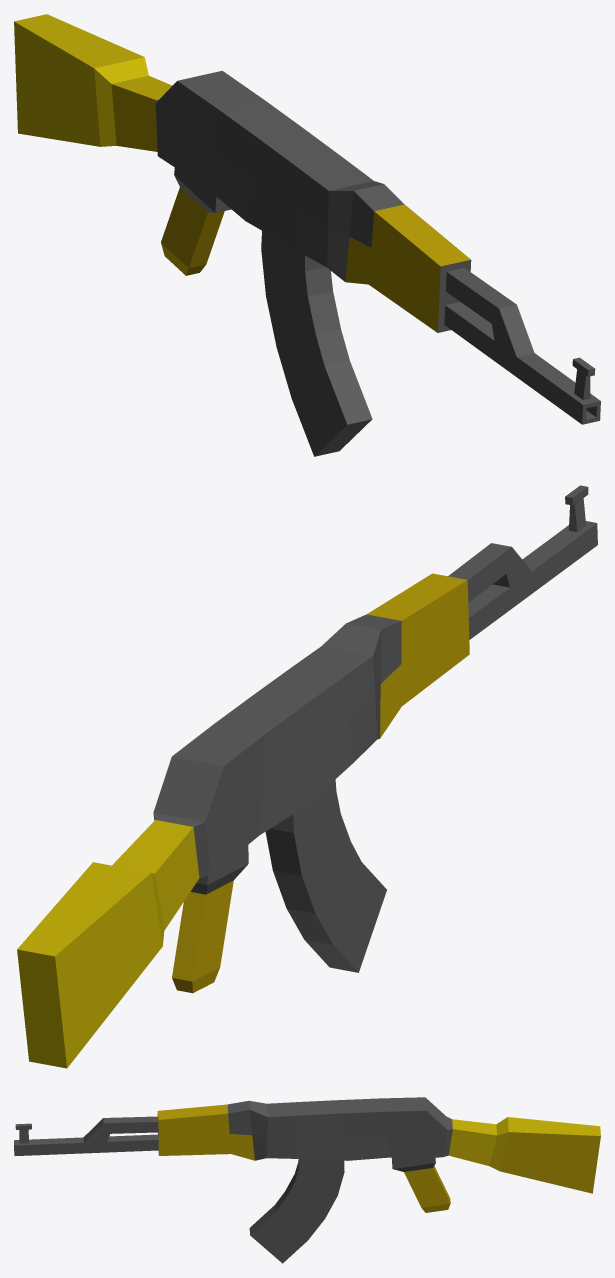
The picture shows the model from 3 angles, top to bottom: view 1: azimuth 30°, elevation 25°; view 2: azimuth 150°, elevation 25°; view 3: azimuth 270°, elevation 25°; orthographic projection. The views are drawn at different scales.
Parts seen in each view (by area): view 1: Ak47; view 2: Ak47; view 3: Ak47.
Part boxes in pixels (x1,y1,x2,y2): Ak47: [14, 14, 600, 456]; Ak47: [17, 485, 597, 1068]; Ak47: [14, 1097, 600, 1263].
Bounding box in the file's own units: 0.0848 × 1.19 × 0.3548.
1 material, 1 textured.
